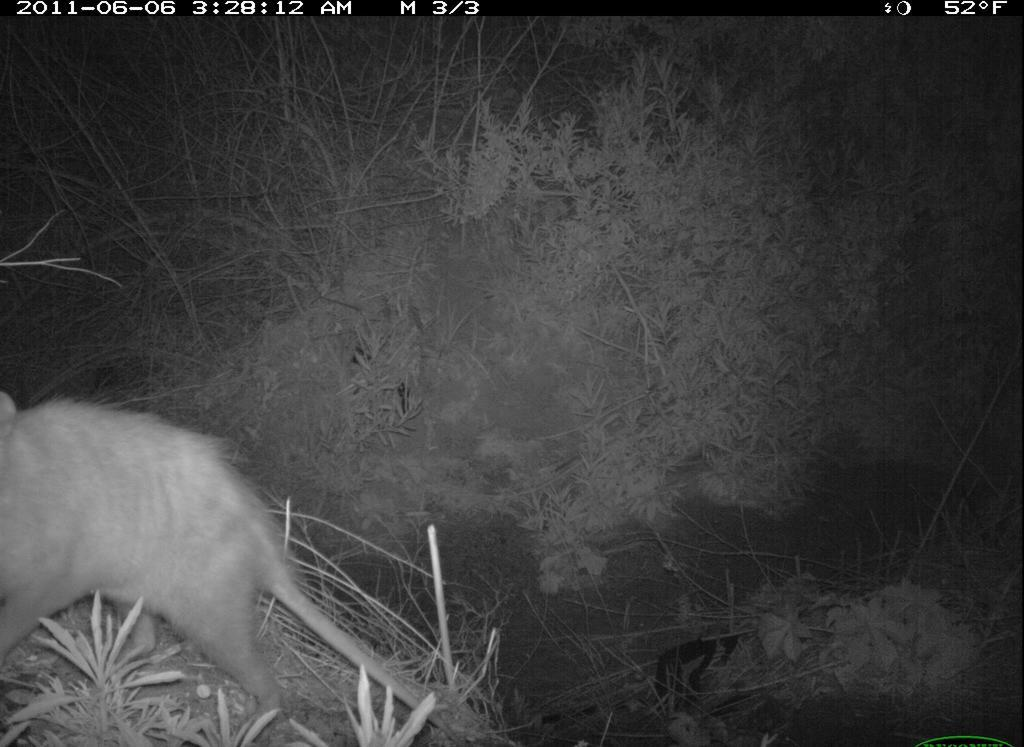opossum: (1, 387, 464, 739)
